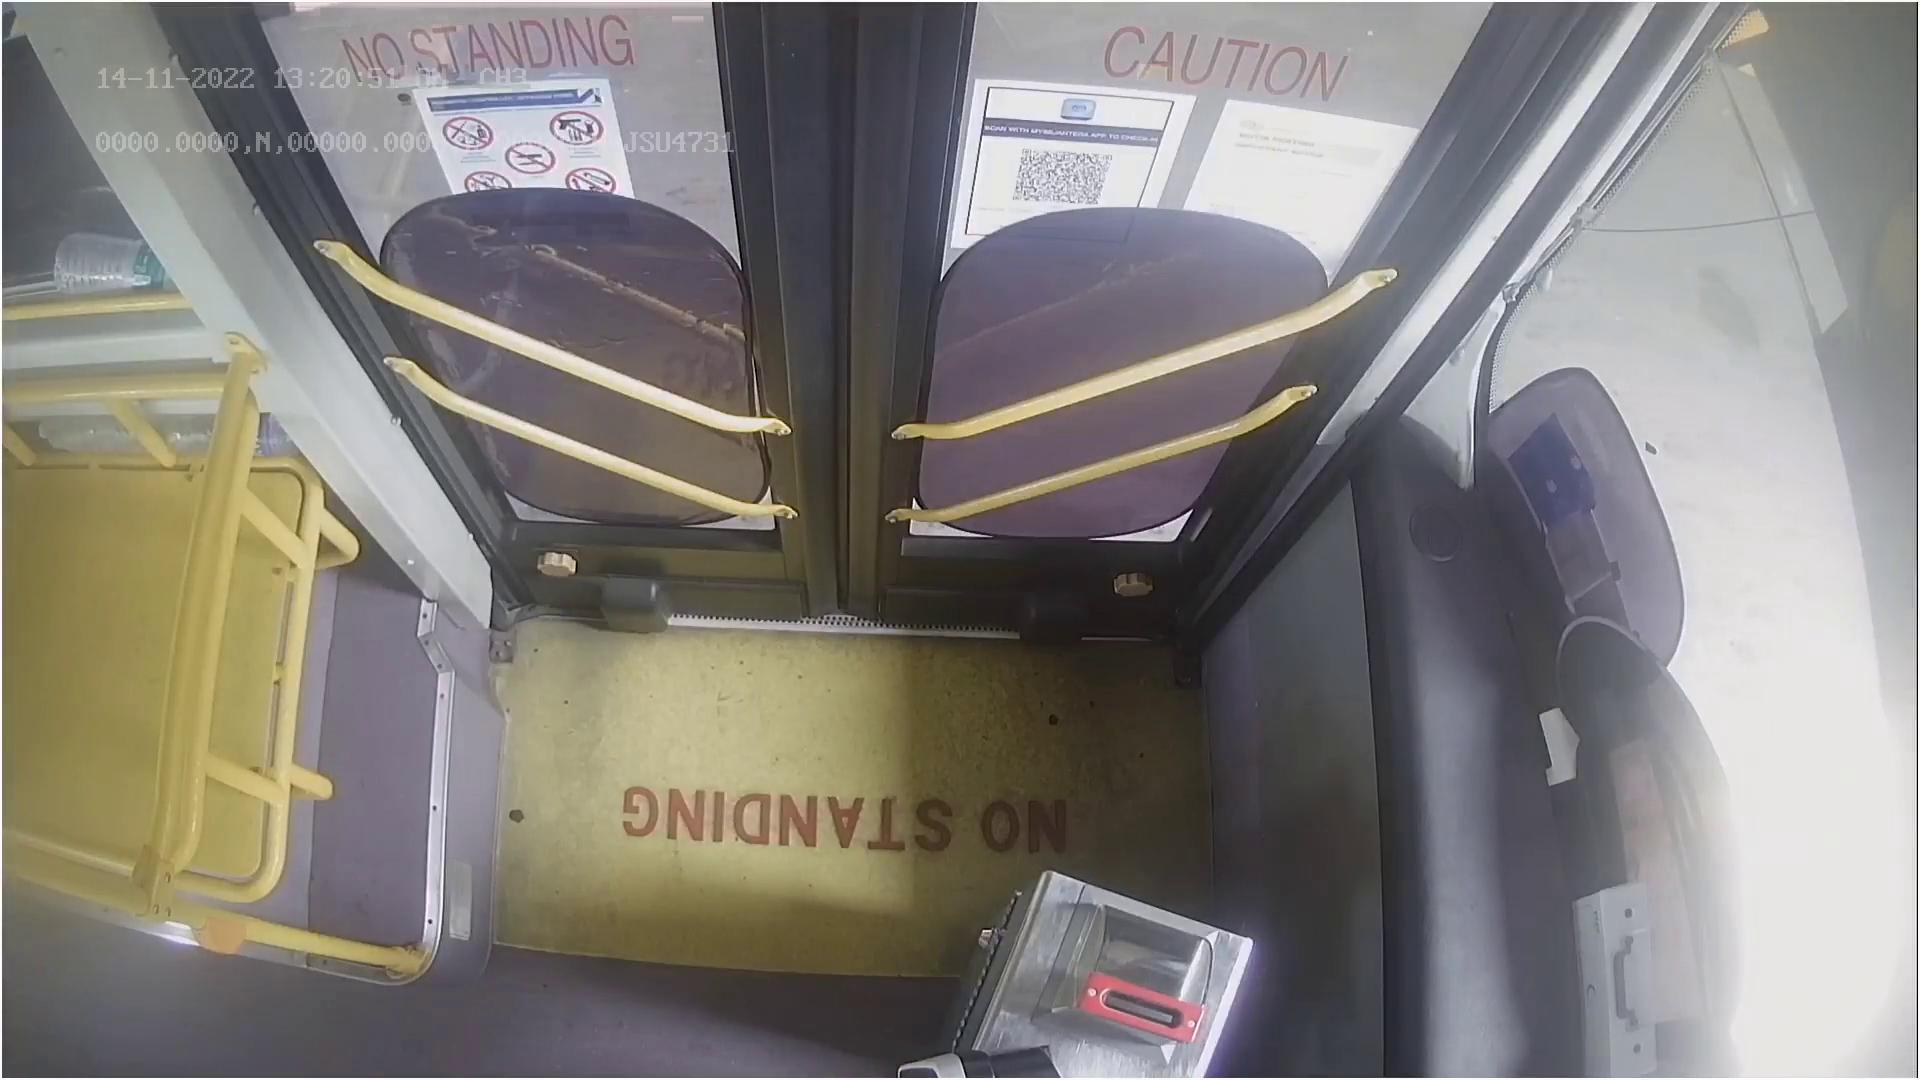close: (289, 0, 1457, 145)
